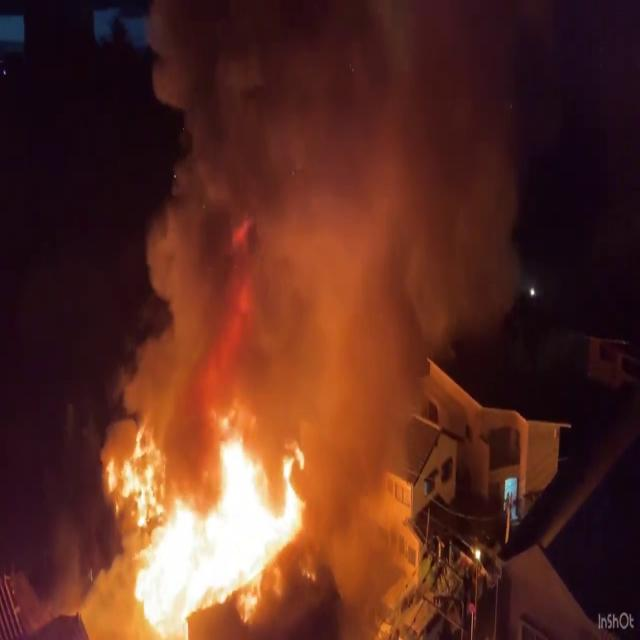Fire: (96, 408, 320, 634)
Smoke: (96, 0, 538, 356)
